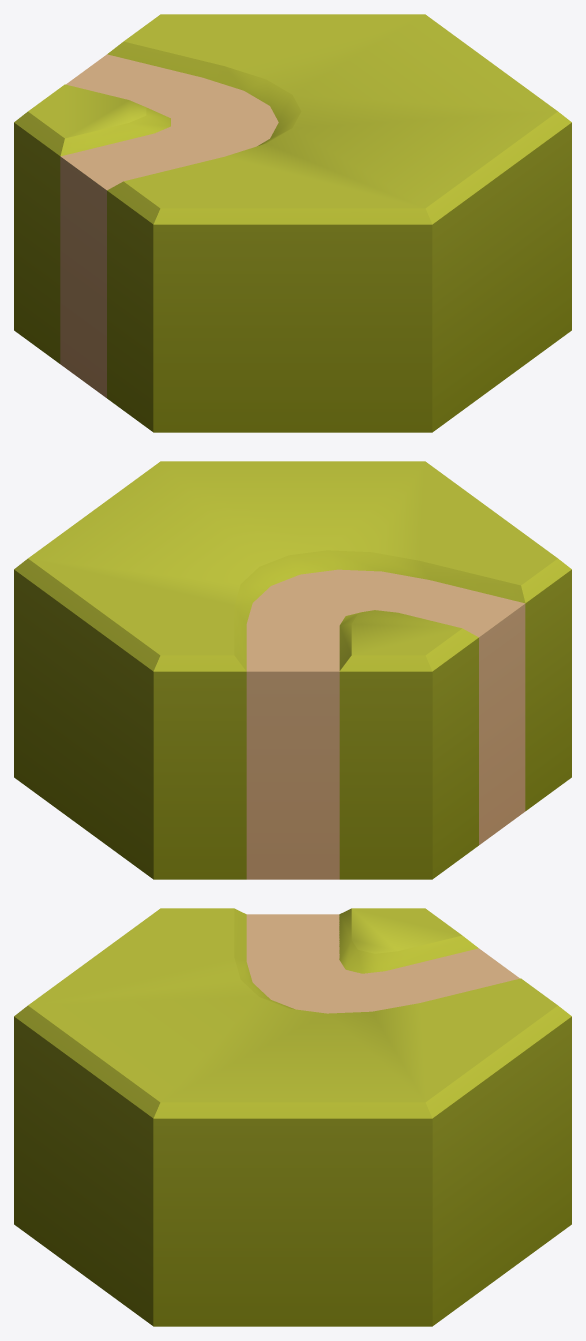
File: hex_road_C.gltf
3 views of the same model, one above another, from view 1: azimuth 30°, elevation 25°; view 2: azimuth 150°, elevation 25°; view 3: azimuth 270°, elevation 25° (orthographic).
Parts seen in each view (by area): view 1: hex_road_C; view 2: hex_road_C; view 3: hex_road_C.
Boxes of the visible parts, left/top/right/bottom form: hex_road_C: left=14, top=14, right=571, bottom=432; hex_road_C: left=14, top=461, right=571, bottom=879; hex_road_C: left=14, top=908, right=571, bottom=1326.
Size of the model in its own units: 2 by 1 by 2.31.
1 material, 1 textured.
